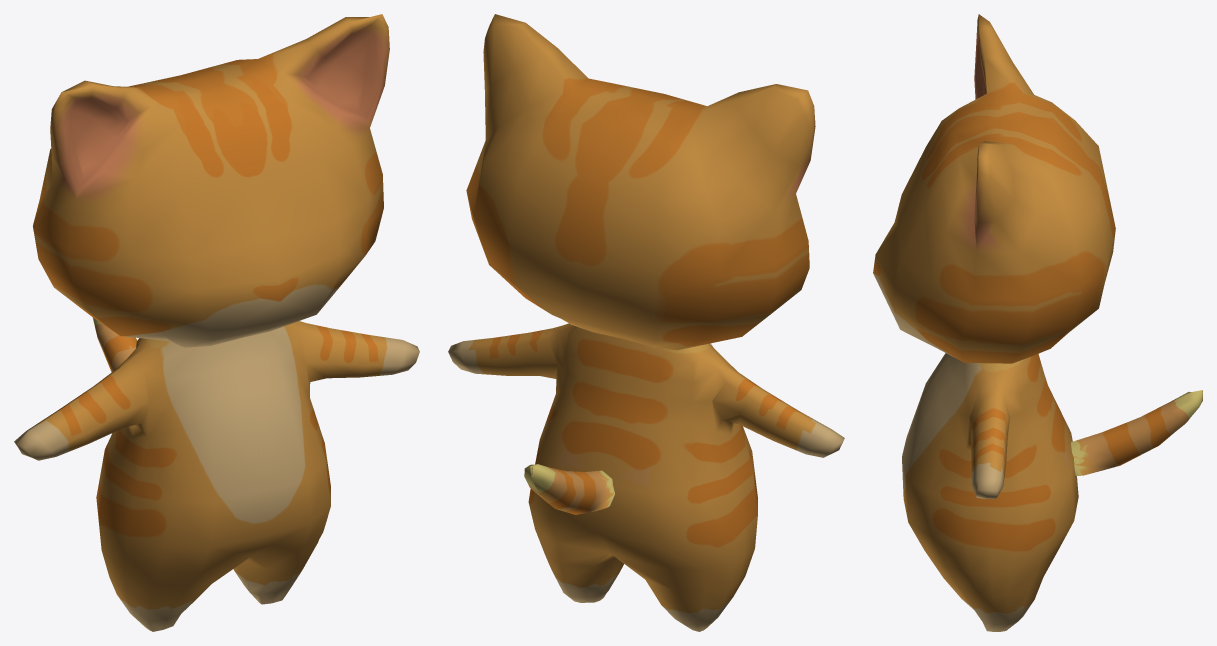
The model's file is FPcat.gltf.
3 views of the same model, side by side, from view 1: azimuth 30°, elevation 25°; view 2: azimuth 150°, elevation 25°; view 3: azimuth 270°, elevation 25° (orthographic). The views are drawn at different scales.
Parts seen in each view (by area): view 1: Cube; view 2: Cube; view 3: Cube.
Boxes of the visible parts, x1,y1,x2,y2 form: Cube: [14, 14, 419, 631]; Cube: [448, 14, 844, 631]; Cube: [873, 14, 1202, 631].
Bounding box in the file's own units: 1.85 × 2.52 × 1.45.
